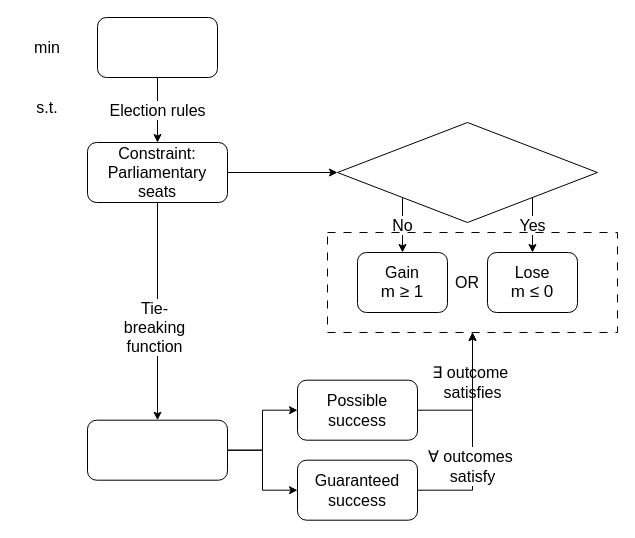
Image size: 635x538. Some labels were removed from this diagram. Each missing label, with the centre of its shape:
Feasible set: Possible draw outcome: the point at 157,449
Pareto Frontier (α, δ): the point at 157,47
Selected Union under current votes Majority?: the point at 467,172
